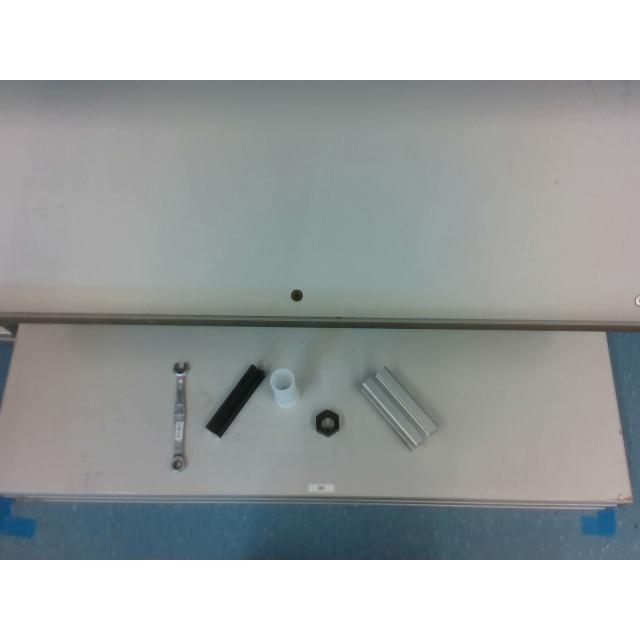F20_20_B: (205, 364, 265, 436)
M20: (315, 408, 339, 436)
S40_40_G: (360, 366, 436, 449)
Spacer: (270, 368, 298, 408)
Wrench: (170, 361, 190, 471)
